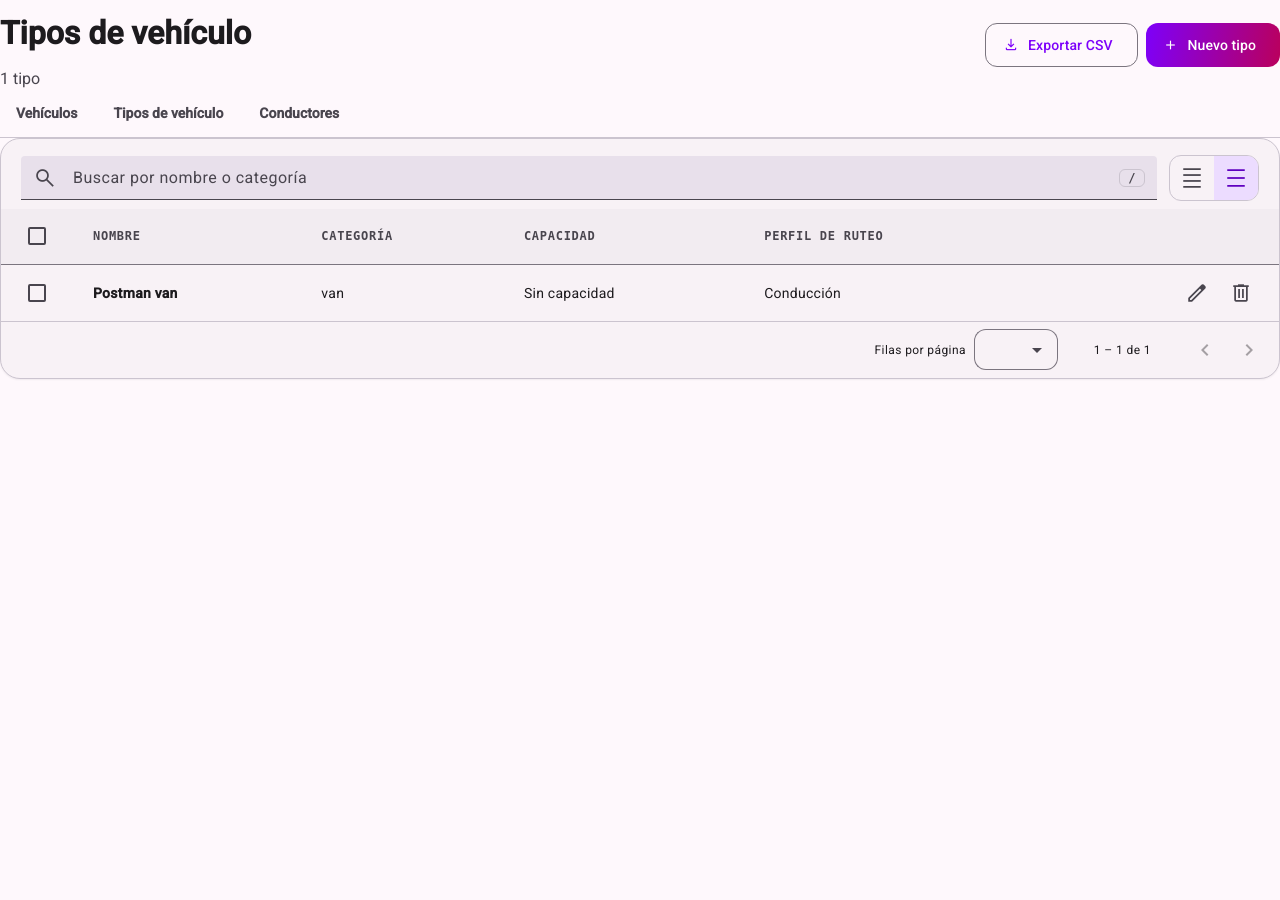
Test case: ResourceTypeListComponent › borrado › si ya no existe (404) avisa y recarga el listado
Click the button named "Eliminar tipo Postman van" at [1241, 293], box [1219, 271, 1263, 315]
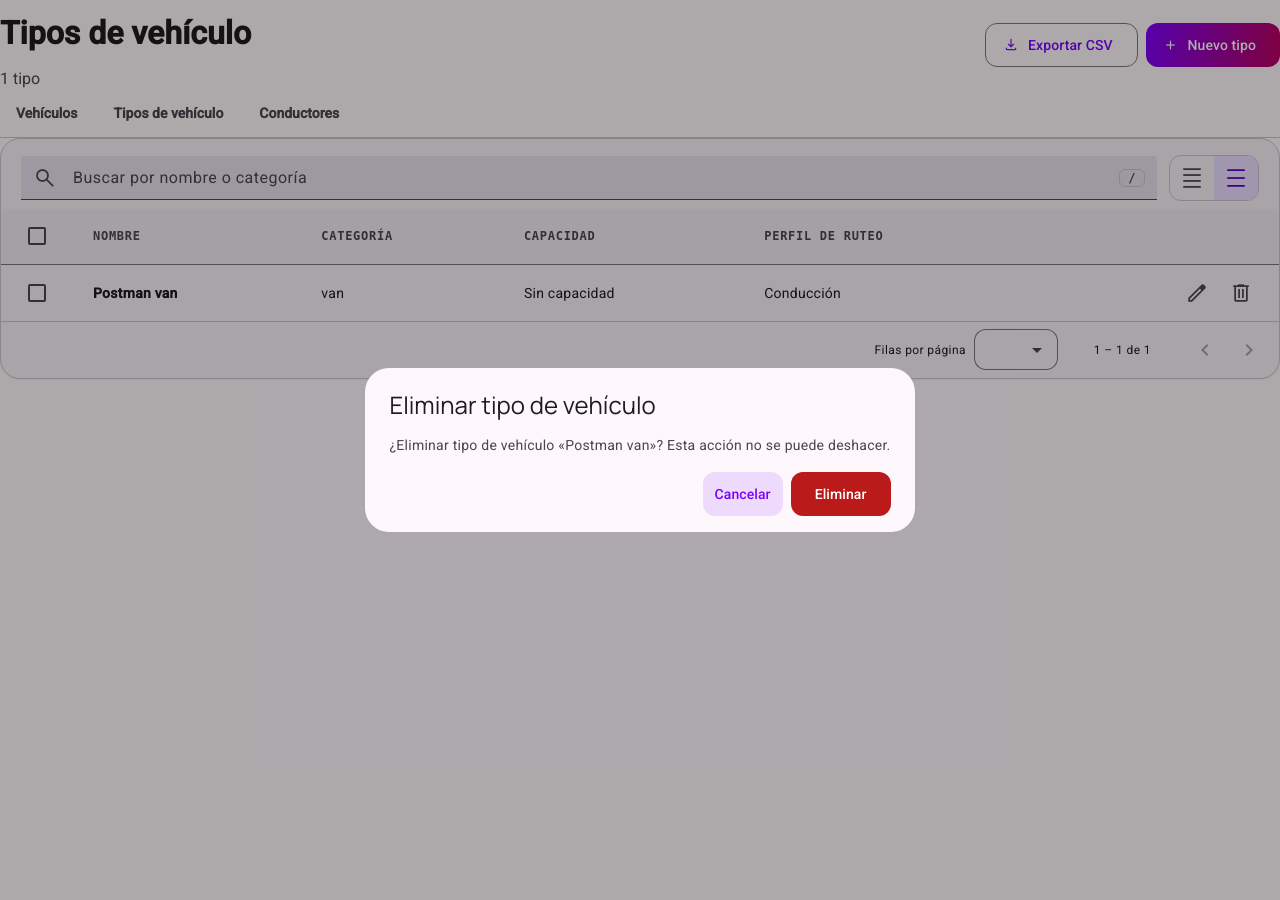
Click the button "Eliminar" at [841, 494], box [791, 472, 891, 516]
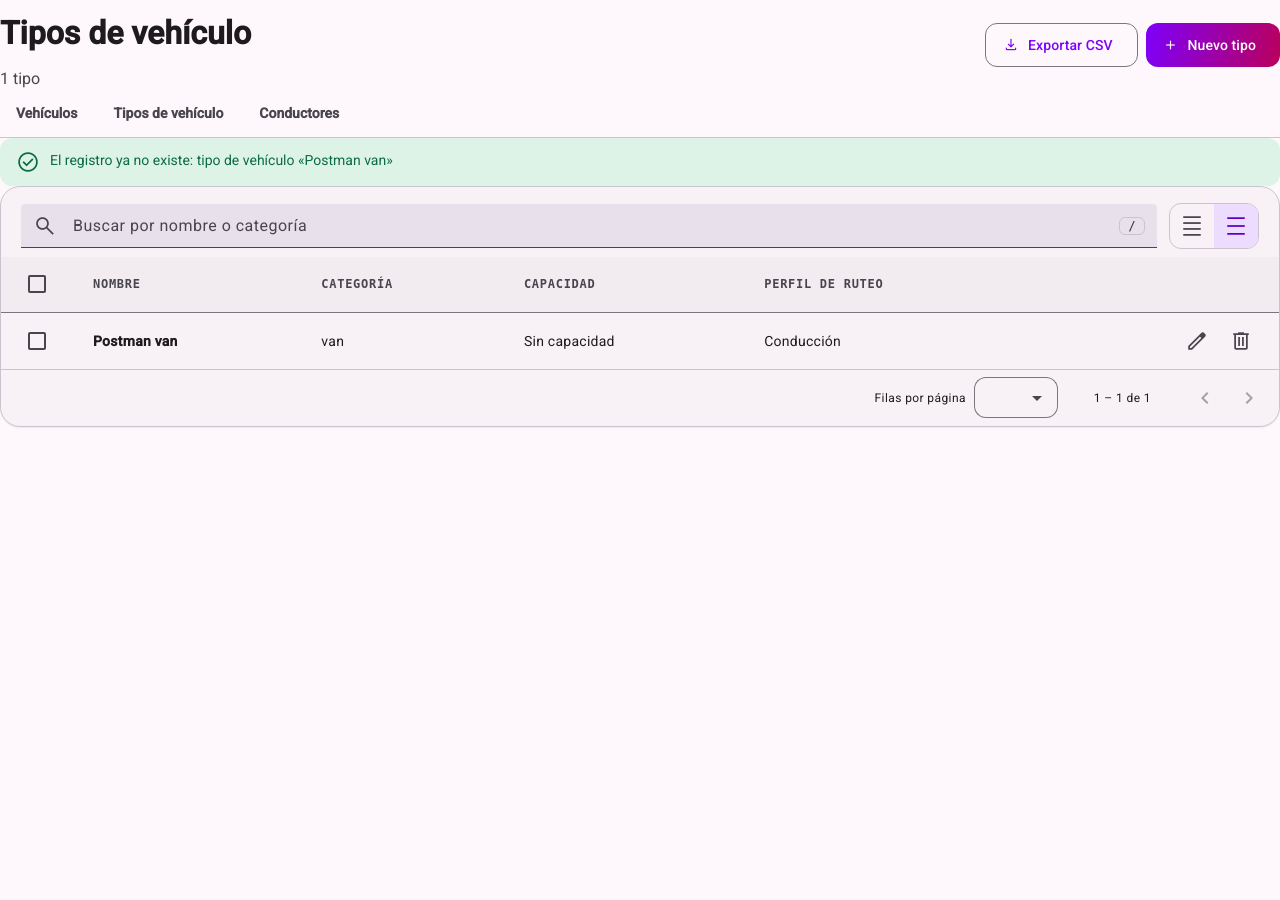
Expected: the text "El registro ya no existe" is shown, [50, 152, 393, 168]
